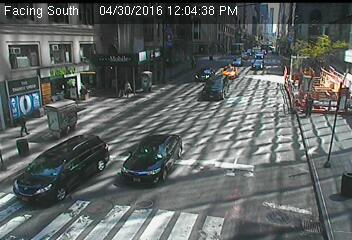neg: (152, 120, 179, 157), (195, 85, 221, 121), (152, 186, 176, 217), (230, 159, 253, 189), (51, 98, 73, 129), (271, 172, 293, 201), (285, 43, 306, 71), (119, 137, 139, 164), (254, 75, 272, 99), (172, 46, 187, 66)
pos: (300, 90, 320, 117), (17, 114, 34, 137), (119, 78, 136, 100)
